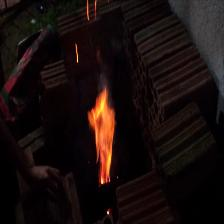Fire: (77, 83, 122, 184)
